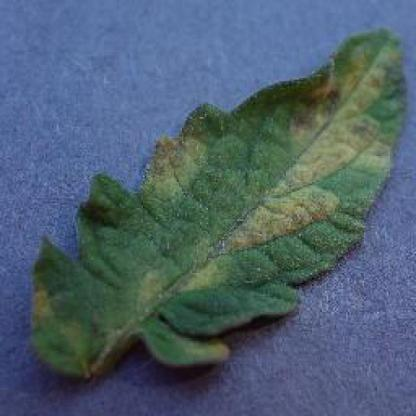Tomato_Leaf_Mold: (30, 31, 405, 374)
